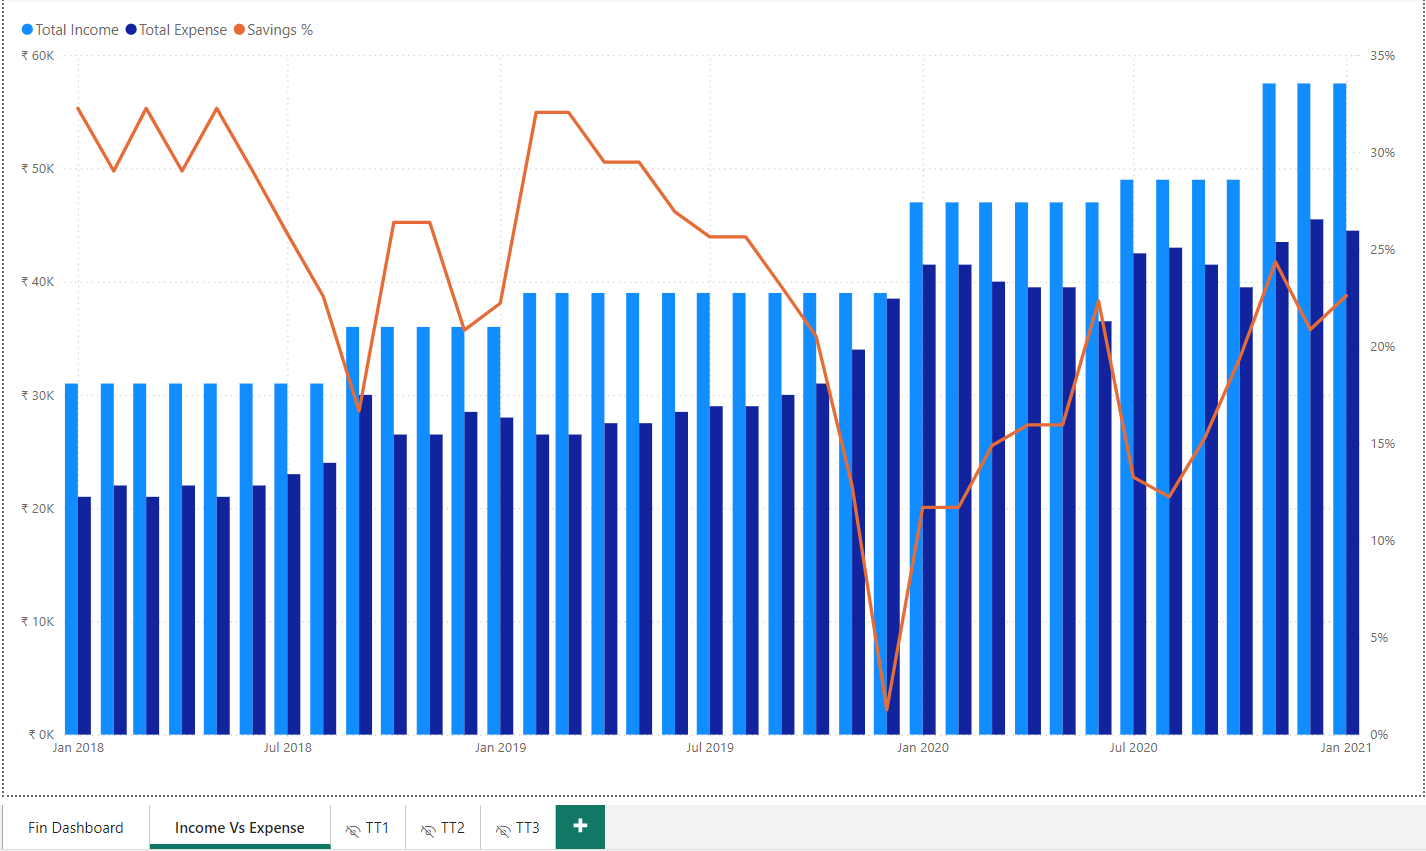

This screenshot's page, from the dashboard's own definition file:
{"tool":"powerbi","page":{"name":"Income  Vs Expense","canvas":[1280,720],"ordinal":1},"visuals":[{"type":"lineClusteredColumnComboChart","fields":{"Category":["FinData.Date"],"Y":["Key Measures.Total Income","Key Measures.Total Expense"],"Y2":["Key Measures.Savings %"]},"box":[10.5,9.3,1250,686],"z":0}]}

Visuals, with their boxes on the page's 1280x720 design canvas (x1, y1, x2, y2). These are canvas units, not pixel positions in the 1426x851 screenshot, which may show the page scaled, cropped or inside an application window:
lineClusteredColumnComboChart - FinData.Date x Key Measures.Total Income: x1=10, y1=9, x2=1260, y2=695
